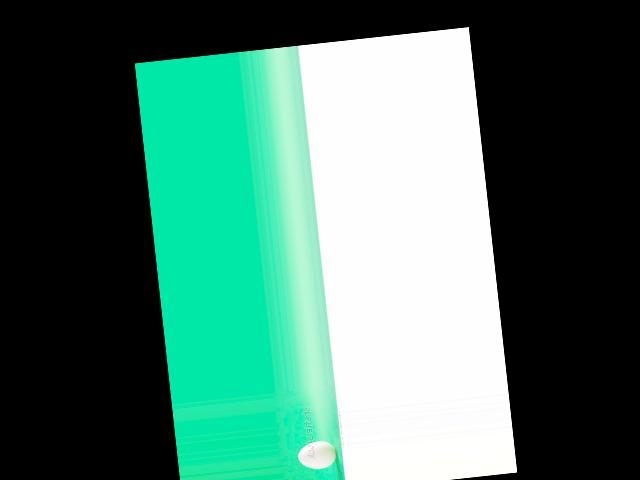egg: (297, 439, 338, 471)
